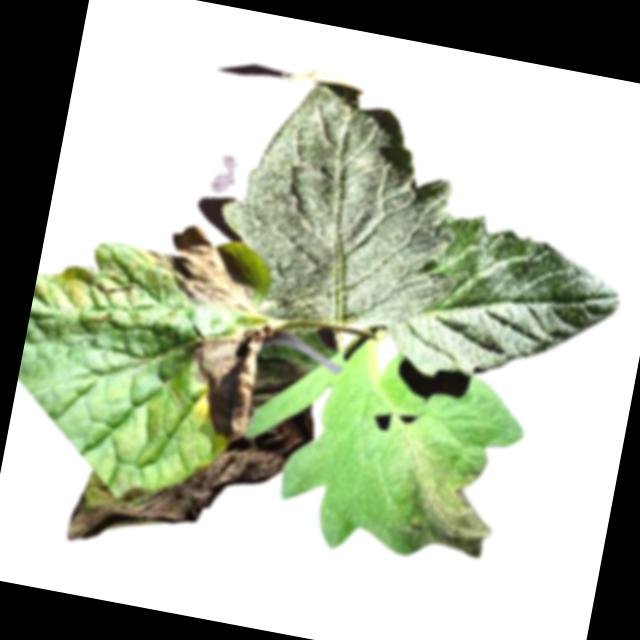Late_blight: (68, 363, 320, 583), (172, 310, 275, 457), (139, 216, 268, 320), (386, 452, 506, 562), (244, 352, 314, 429)
